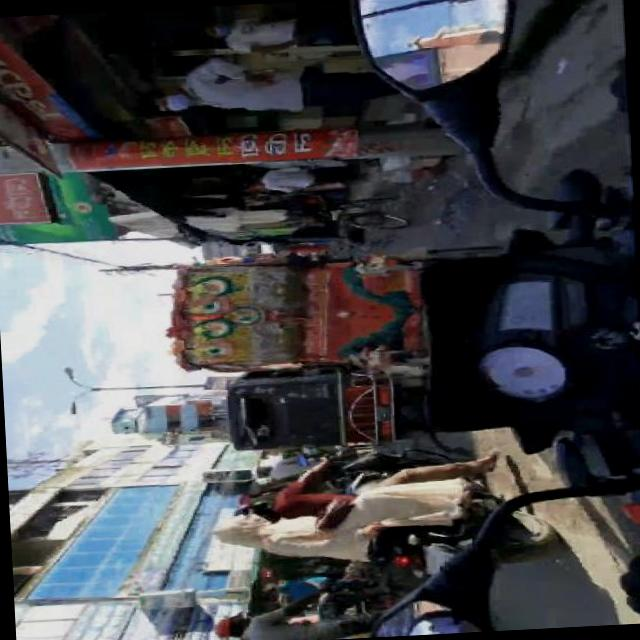motorcycle: (340, 0, 640, 636), (178, 240, 503, 366), (294, 440, 554, 580), (230, 362, 428, 452)
